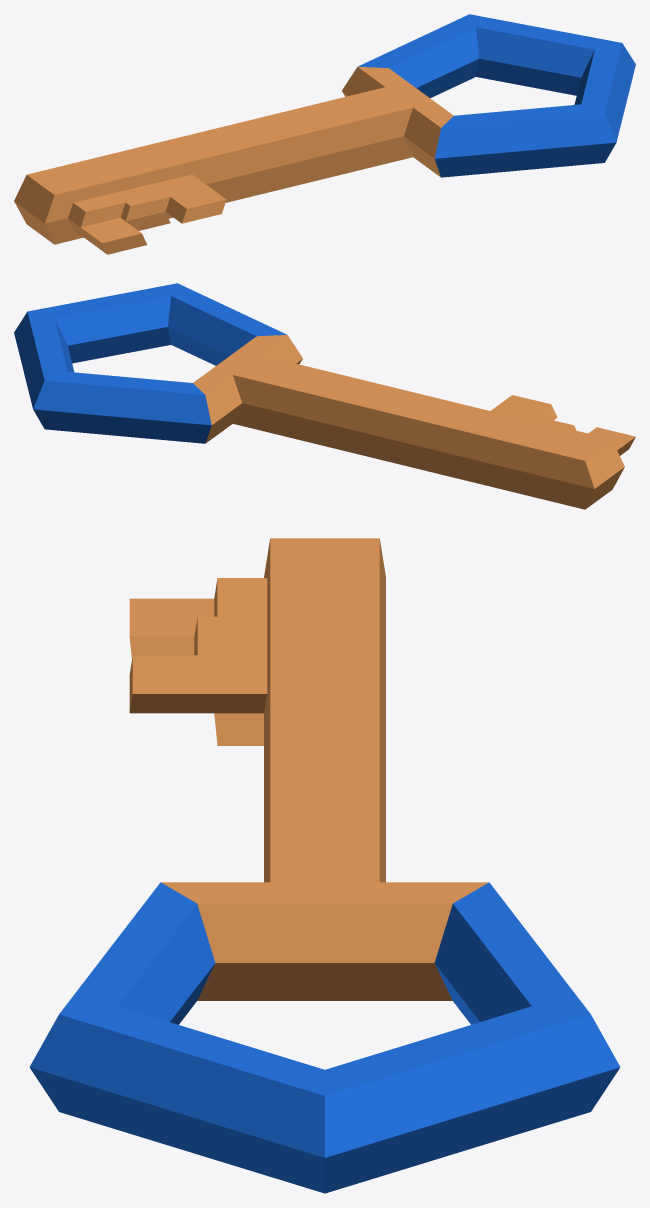
Rendered from Blue_Key.fbx.
The picture shows the model from 3 angles, top to bottom: view 1: azimuth 30°, elevation 25°; view 2: azimuth 150°, elevation 25°; view 3: azimuth 270°, elevation 25°; orthographic projection. The views are drawn at different scales.
Visible parts, largest first — view 1: Key; view 2: Key; view 3: Key.
Part boxes in pixels (x1,y1,x2,y2): Key: [14, 14, 635, 254]; Key: [14, 283, 635, 509]; Key: [29, 538, 620, 1193].
Bounding box in the file's own units: 31.49 × 2.46 × 13.53.
